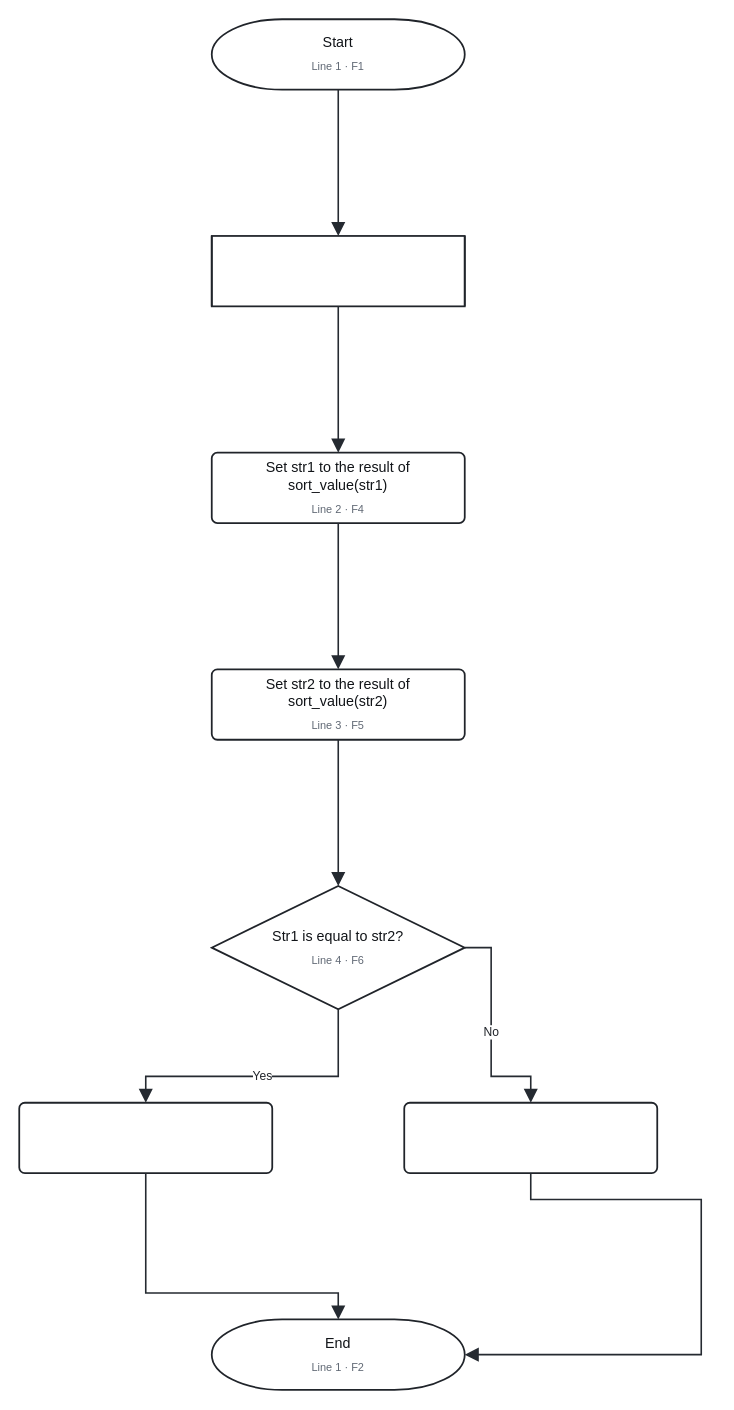
The diagram is 734 pixels wide and 1410 high, and some of its shapes have lost their labels. The shapes that lost their labels are listed below. From the top down, each one's centre as x and y in pixels, then its label:
At (337,271): "Run function ARE_ANAGRAMS with str1, str2 Line 1 · F3".
At (145,1137): "Return true Line 5 · F7".
At (530,1137): "Return false Line 7 · F8".
